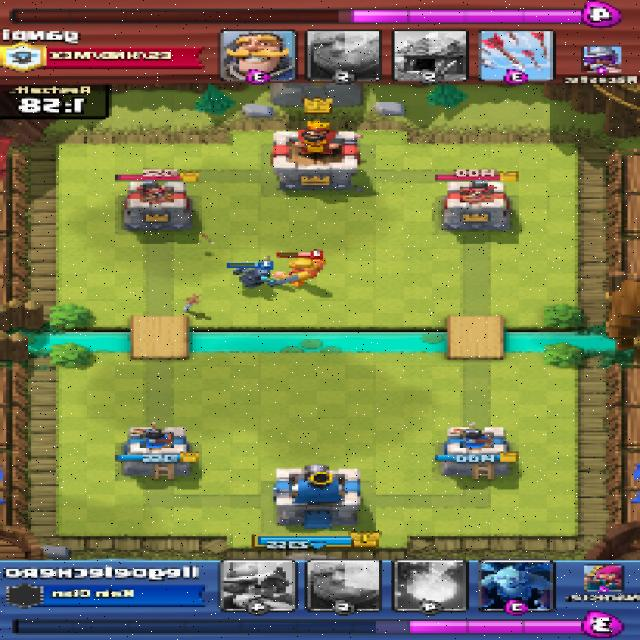Player-GoblinCage: (269, 257, 330, 284)
Player-MiniPEKKA: (231, 263, 275, 289)
